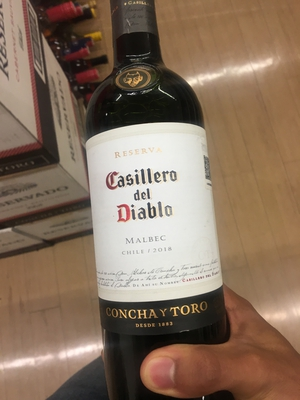casillero del diablo malbec: (73, 40, 243, 400)
